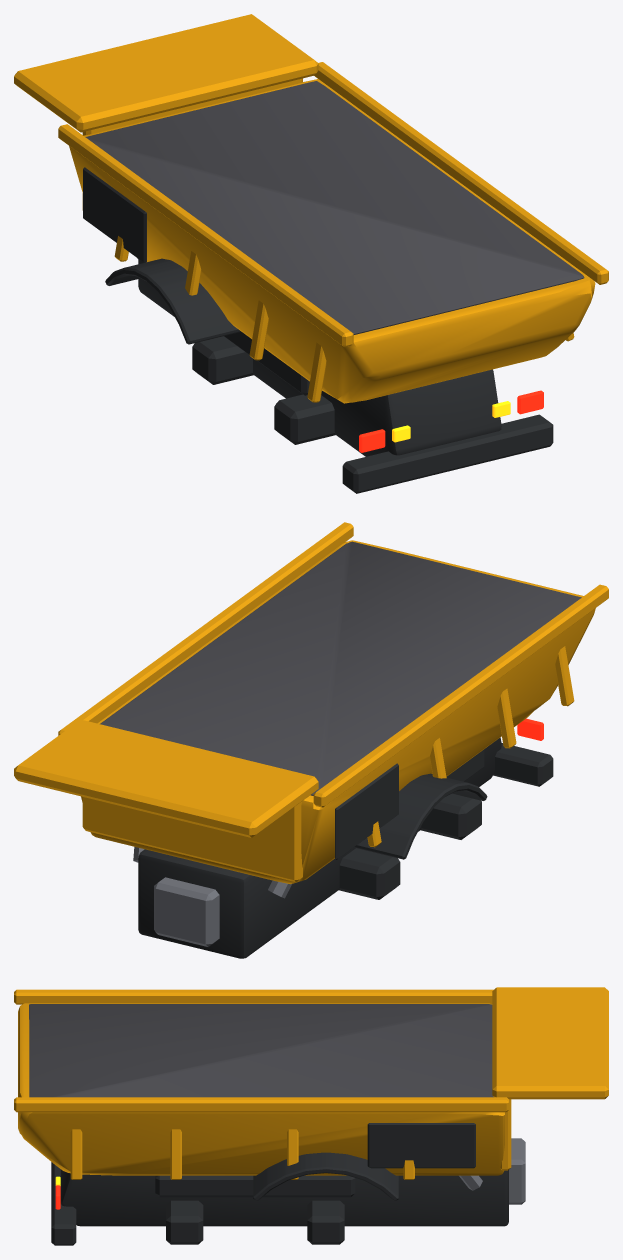
The model's file is rear.glb.
3 renders of one model, top to bottom at view 1: azimuth 30°, elevation 25°; view 2: azimuth 150°, elevation 25°; view 3: azimuth 270°, elevation 25°, orthographic. The views are drawn at different scales.
Visible parts, largest first — view 1: HaulerRear; view 2: HaulerRear; view 3: HaulerRear.
Part boxes in pixels (x1,y1,x2,y2): HaulerRear: (14, 14, 608, 493); HaulerRear: (14, 522, 608, 958); HaulerRear: (14, 987, 608, 1245).
Bounding box in the file's own units: 3.59 × 2.25 × 7.15.
